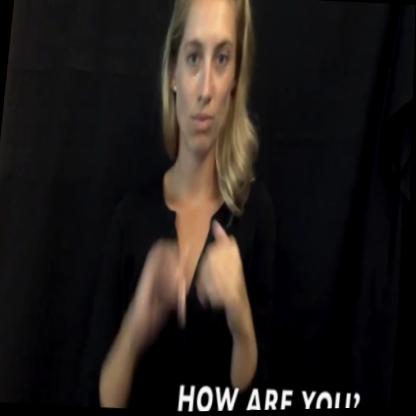HowAreYou: (131, 214, 267, 369)
